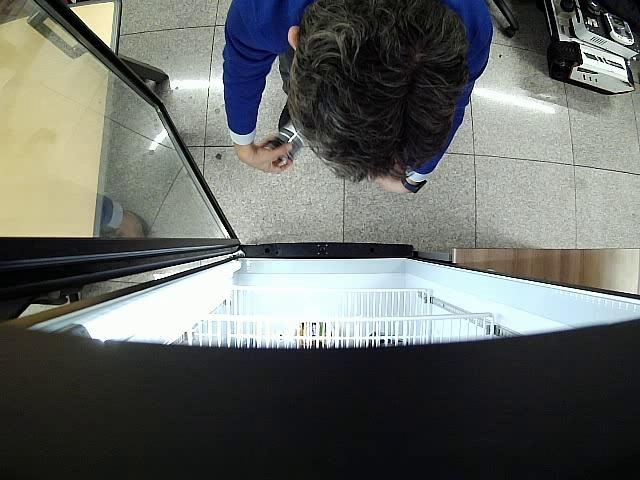08_buldak_S: (262, 121, 305, 165)
